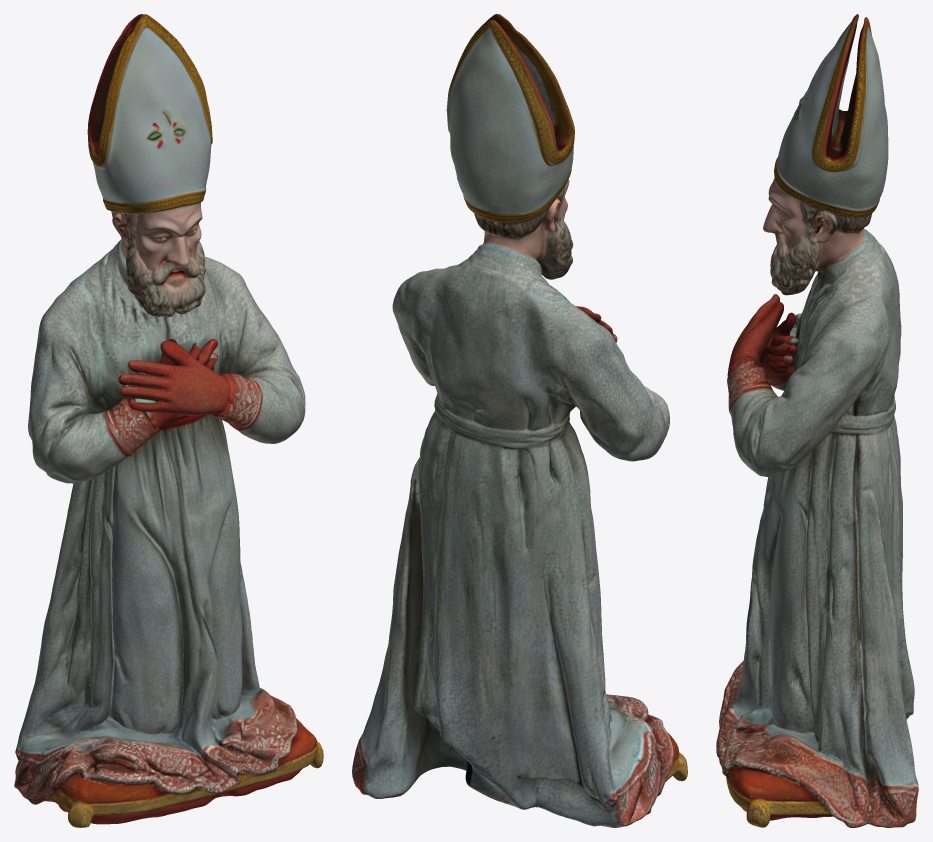
Rendered from statua-ar-dopo.glb.
3 renders of one model, left to right at view 1: azimuth 30°, elevation 25°; view 2: azimuth 150°, elevation 25°; view 3: azimuth 270°, elevation 25°, orthographic. The views are drawn at different scales.
Size of the model in its own units: 0.3633 by 0.9999 by 0.2417.
Materials: 1 (1 with a texture image).
